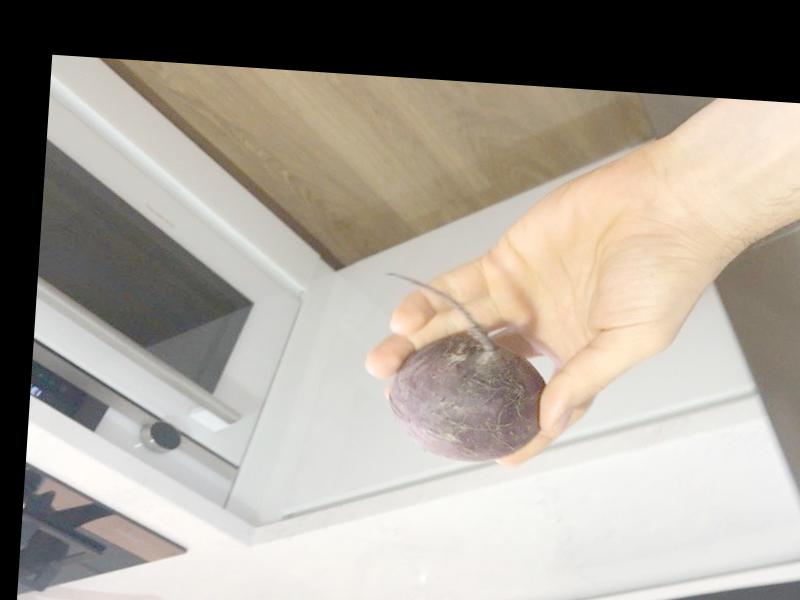Beet: (370, 271, 551, 466)
